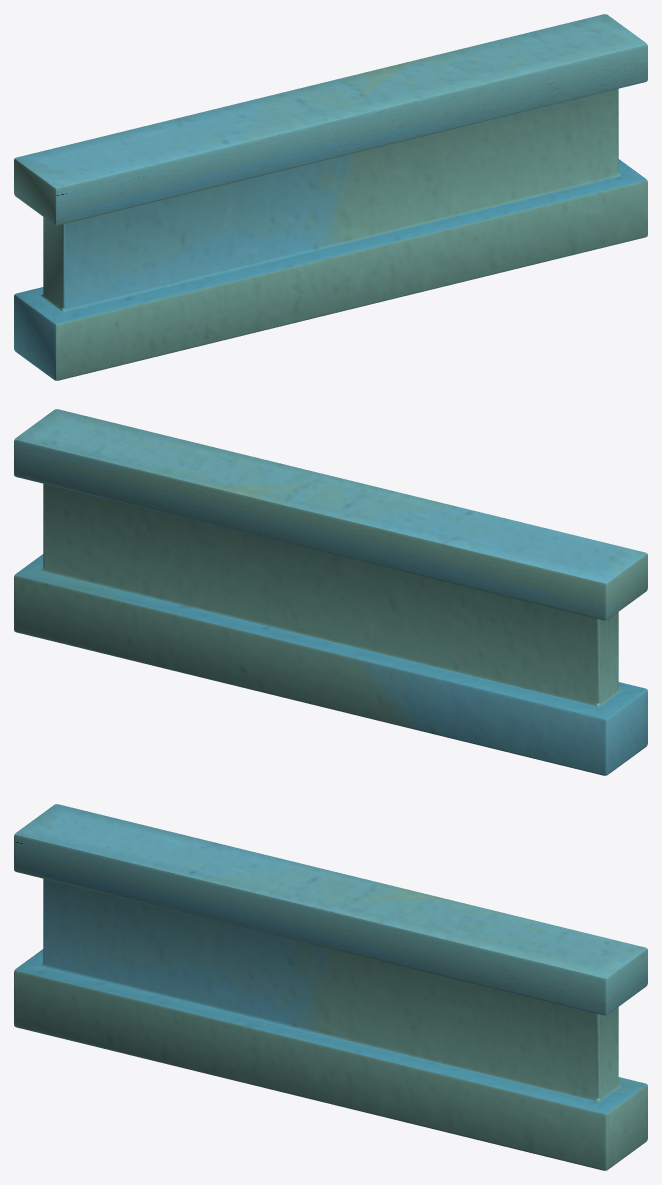
Rendered from TOMB_WALL_3_1_002.obj.
3 views of the same model, one above another, from view 1: azimuth 30°, elevation 25°; view 2: azimuth 150°, elevation 25°; view 3: azimuth 330°, elevation 25° (orthographic).
Visible parts, largest first — view 1: TOMB_WALL_3_1_002; view 2: TOMB_WALL_3_1_002; view 3: TOMB_WALL_3_1_002.
Boxes of the visible parts, x1,y1,x2,y2 form: TOMB_WALL_3_1_002: (14,14,647,380); TOMB_WALL_3_1_002: (14,409,647,775); TOMB_WALL_3_1_002: (14,804,647,1170).
Size of the model in its own units: 3.2 by 1 by 0.4.
